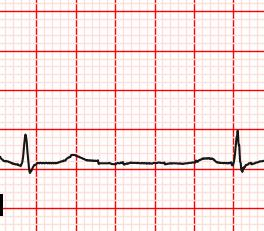Poor R Progression: (17, 133, 34, 170)
